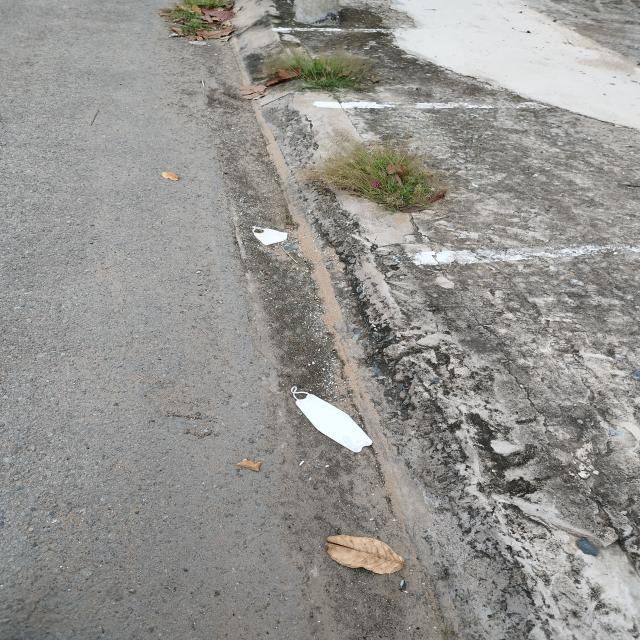mask: (290, 386, 373, 453), (251, 226, 288, 245)
